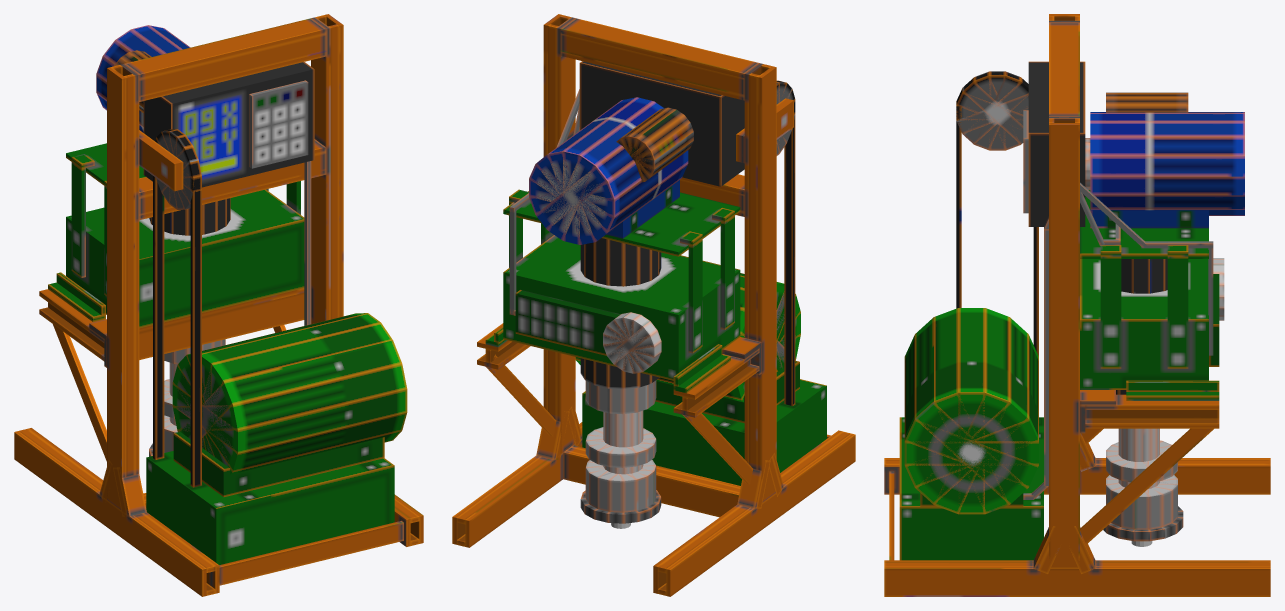
The model's file is vein_miner_mk2.obj.
3 renders of one model, left to right at view 1: azimuth 30°, elevation 25°; view 2: azimuth 150°, elevation 25°; view 3: azimuth 270°, elevation 25°, orthographic. The views are drawn at different scales.
Visible parts, largest first — view 1: cube, hexadecagon; view 2: cube, hexadecagon; view 3: cube, hexadecagon.
Part boxes in pixels (<box>): cube: <box>14,14,423,596</box>; hexadecagon: <box>96,25,407,474</box>; cube: <box>452,14,855,596</box>; hexadecagon: <box>529,80,800,528</box>; cube: <box>884,14,1270,596</box>; hexadecagon: <box>904,71,1244,546</box>.
Size of the model in its own units: 3.19 by 6.31 by 4.69.
Materials: 1 (1 with a texture image).
